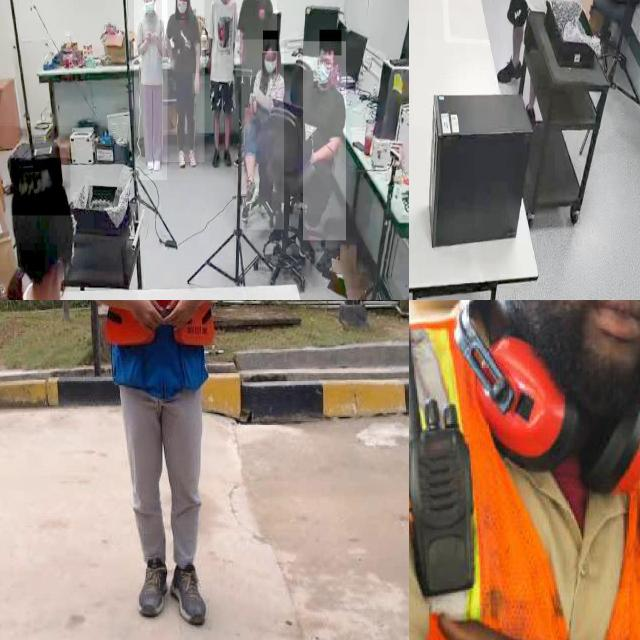Ear-protection: (442, 300, 640, 496)
boots: (169, 560, 208, 625), (138, 556, 166, 618)
face_mask: (314, 60, 332, 89), (262, 52, 276, 78), (175, 0, 188, 20), (143, 0, 156, 10)
hand_glove: (557, 0, 572, 9)
hand_noglove: (192, 73, 200, 95), (143, 29, 151, 45), (205, 53, 211, 74), (152, 30, 158, 46)
head_nohelmet: (11, 158, 71, 216), (320, 30, 342, 56), (263, 30, 279, 52)
person: (409, 300, 640, 640), (61, 300, 237, 633), (0, 125, 138, 300), (303, 41, 347, 241), (242, 39, 284, 230), (162, 0, 205, 163), (501, 0, 580, 87), (202, 0, 241, 168), (134, 0, 167, 181), (235, 0, 277, 77)
shoes: (496, 46, 526, 92), (243, 174, 259, 207), (208, 145, 221, 173), (176, 148, 188, 172), (186, 148, 198, 170), (152, 154, 164, 173), (144, 150, 154, 171), (222, 147, 232, 168)
vest: (409, 305, 640, 640)
